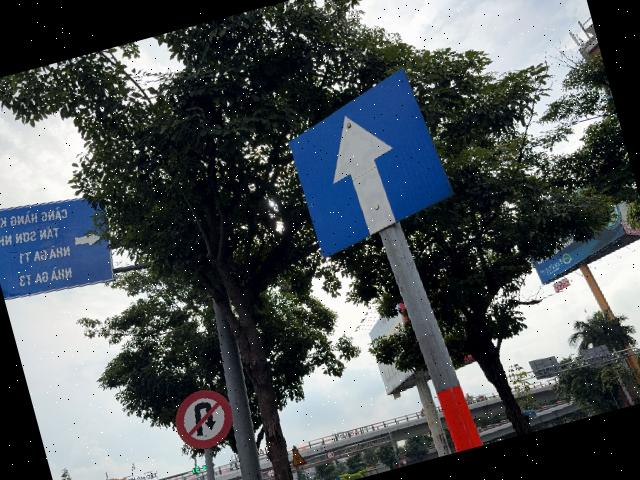cam-quay-dau-xe: (168, 383, 240, 455)
duong-mot-chieu: (278, 63, 462, 260)
